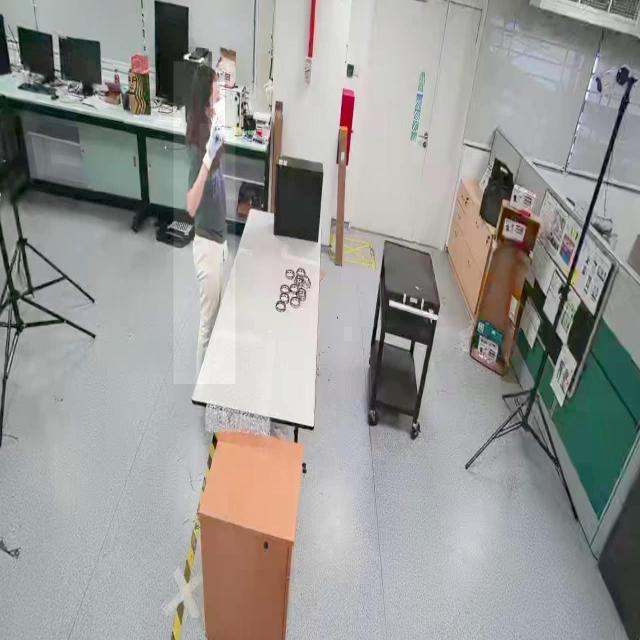face_mask: (213, 82, 225, 126)
hand_glove: (200, 124, 226, 180)
head_nohelmet: (192, 64, 216, 82)
person: (174, 61, 236, 385)
